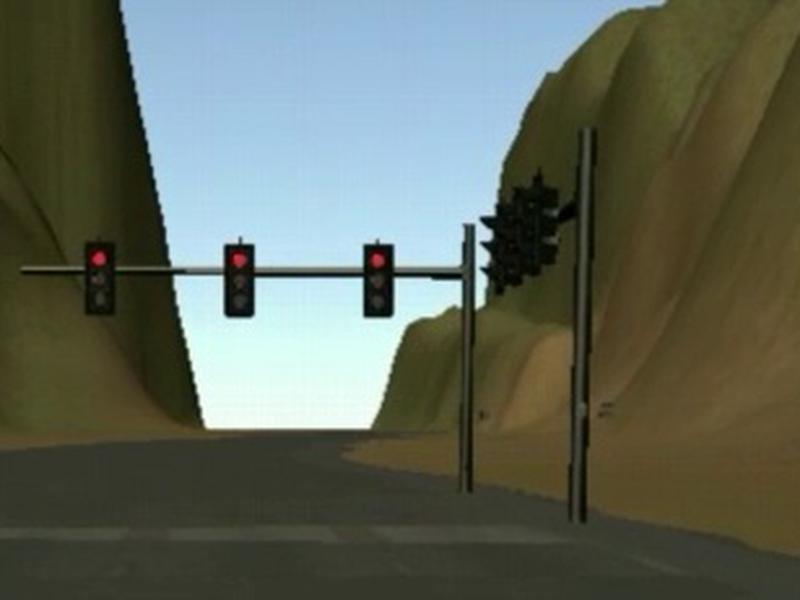Red: (223, 244, 254, 317), (364, 244, 393, 316), (86, 242, 114, 315)
